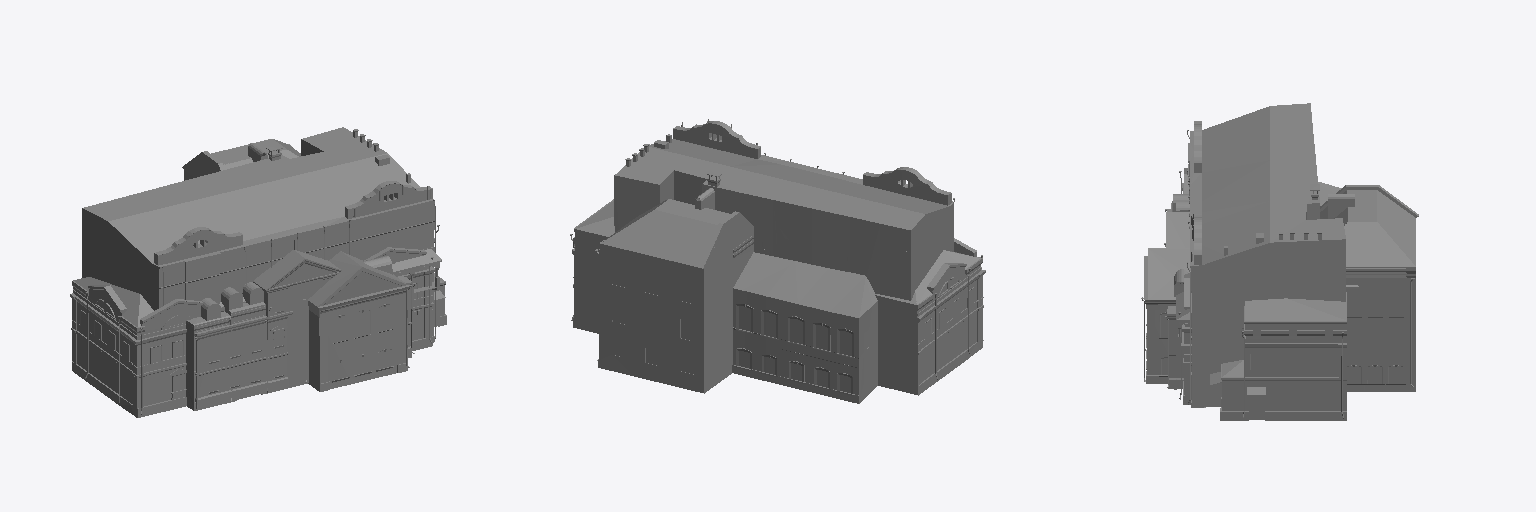
The model's file is Houses_Pack.obj.
3 renders of one model, left to right at view 1: azimuth 30°, elevation 25°; view 2: azimuth 150°, elevation 25°; view 3: azimuth 270°, elevation 25°, orthographic.
Visible parts, largest first — view 1: House_4_lod_0, House_3_lod_0, House_1_lod_2, House_2_lod_2, House_1_lod_0, House_4_lod_2, House_2_lod_1, House_2_lod_0, House_4_lod_1, House_3_lod_1, House_1_lod_1; view 2: House_1_lod_0, House_4_lod_0, House_1_lod_1, House_4_lod_1, House_1_lod_2, House_3_lod_2, House_3_lod_0, House_3_lod_1; view 3: House_4_lod_0, House_1_lod_0, House_3_lod_1, House_4_lod_1, House_1_lod_2, House_3_lod_2, House_4_lod_2, House_2_lod_1, House_1_lod_1, House_3_lod_0.
Part boxes in pixels (bbox=[...]): House_4_lod_0: bbox=[82, 127, 441, 342]; House_3_lod_0: bbox=[70, 225, 446, 417]; House_1_lod_2: bbox=[184, 147, 411, 402]; House_2_lod_2: bbox=[198, 147, 340, 397]; House_1_lod_0: bbox=[185, 139, 411, 410]; House_4_lod_2: bbox=[161, 184, 436, 306]; House_2_lod_1: bbox=[196, 144, 339, 409]; House_2_lod_0: bbox=[195, 147, 415, 408]; House_4_lod_1: bbox=[162, 131, 441, 338]; House_3_lod_1: bbox=[71, 247, 445, 414]; House_1_lod_1: bbox=[182, 144, 408, 410]; House_1_lod_0: bbox=[596, 188, 877, 403]; House_4_lod_0: bbox=[615, 121, 954, 300]; House_1_lod_1: bbox=[598, 189, 828, 392]; House_4_lod_1: bbox=[619, 119, 953, 298]; House_1_lod_2: bbox=[595, 192, 868, 394]; House_3_lod_2: bbox=[572, 209, 976, 392]; House_3_lod_0: bbox=[570, 234, 985, 394]; House_3_lod_1: bbox=[572, 199, 985, 395]; House_4_lod_0: bbox=[1176, 103, 1345, 407]; House_1_lod_0: bbox=[1142, 182, 1418, 391]; House_3_lod_1: bbox=[1179, 176, 1346, 420]; House_4_lod_1: bbox=[1178, 130, 1343, 407]; House_1_lod_2: bbox=[1141, 183, 1413, 385]; House_3_lod_2: bbox=[1183, 174, 1346, 419]; House_4_lod_2: bbox=[1189, 140, 1345, 407]; House_2_lod_1: bbox=[1164, 184, 1358, 389]; House_1_lod_1: bbox=[1144, 185, 1411, 384]; House_3_lod_0: bbox=[1178, 168, 1343, 420].
Size of the model in its own units: 4.74 by 2.3 by 3.34.